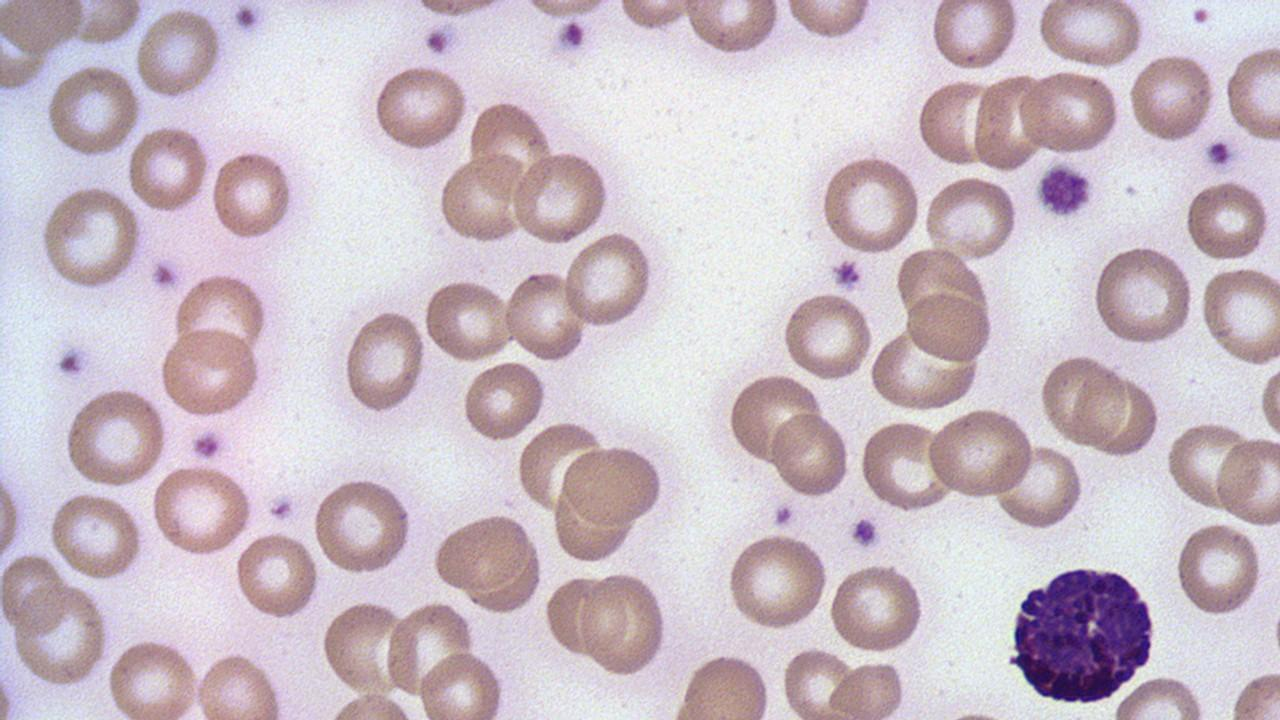Platelets: (1033, 161, 1097, 218), (188, 428, 230, 460), (1204, 137, 1238, 171), (830, 258, 865, 291), (850, 514, 882, 550), (555, 20, 588, 54)
RBC: (1088, 242, 1196, 350), (725, 528, 830, 634), (40, 184, 143, 292), (62, 386, 170, 488), (10, 582, 112, 688), (819, 153, 922, 256), (310, 476, 415, 576), (928, 406, 1034, 503), (149, 461, 255, 558), (512, 147, 612, 248), (561, 229, 658, 331), (866, 328, 981, 413), (158, 328, 266, 418), (343, 304, 428, 418), (46, 62, 143, 161), (172, 270, 270, 367), (580, 570, 668, 678), (828, 559, 927, 655), (727, 371, 823, 468), (371, 61, 470, 154), (384, 598, 474, 700), (562, 441, 667, 528), (466, 100, 551, 207), (1017, 69, 1121, 156), (858, 418, 954, 512), (1173, 520, 1265, 618), (48, 490, 145, 582), (320, 598, 409, 698), (782, 288, 876, 382), (922, 173, 1020, 263), (432, 512, 538, 595), (1198, 261, 1280, 368), (438, 152, 528, 246), (134, 7, 224, 101), (502, 268, 590, 364), (209, 146, 294, 244), (992, 442, 1084, 532), (1127, 51, 1215, 145), (234, 528, 320, 622), (126, 122, 210, 218), (422, 277, 513, 365), (1039, 352, 1125, 445), (1166, 418, 1252, 511), (104, 637, 202, 717), (1184, 176, 1272, 264), (970, 74, 1047, 174), (1038, 0, 1146, 69), (916, 76, 994, 170), (462, 357, 547, 443), (770, 409, 850, 500), (1077, 362, 1157, 449), (902, 290, 996, 364), (929, 0, 1020, 73), (676, 651, 776, 717), (418, 648, 508, 720), (193, 650, 288, 718), (1214, 432, 1280, 528), (1, 546, 69, 638), (780, 642, 862, 718), (682, 0, 784, 60), (544, 572, 612, 661), (1224, 42, 1280, 144), (0, 5, 53, 94), (1110, 673, 1210, 719), (1, 1, 83, 55), (782, 1, 877, 45), (63, 0, 144, 48), (0, 455, 24, 572), (1230, 667, 1280, 718), (1256, 364, 1280, 450)
WBC: (996, 560, 1162, 708)
